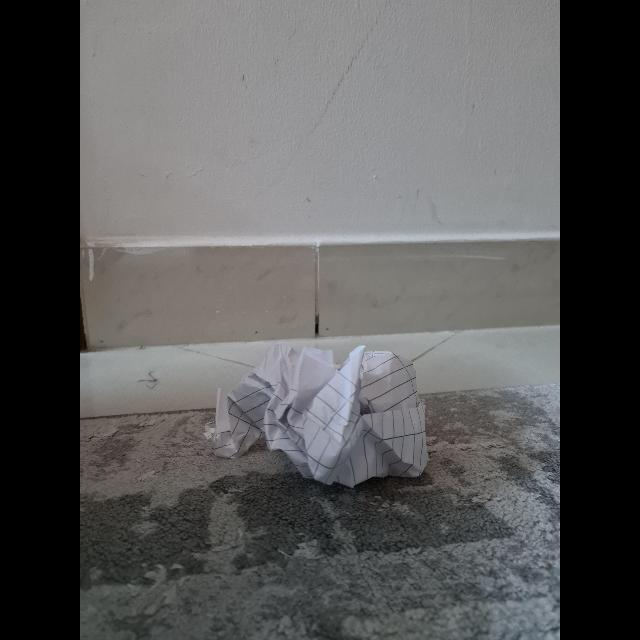trash: (200, 343, 430, 483)
